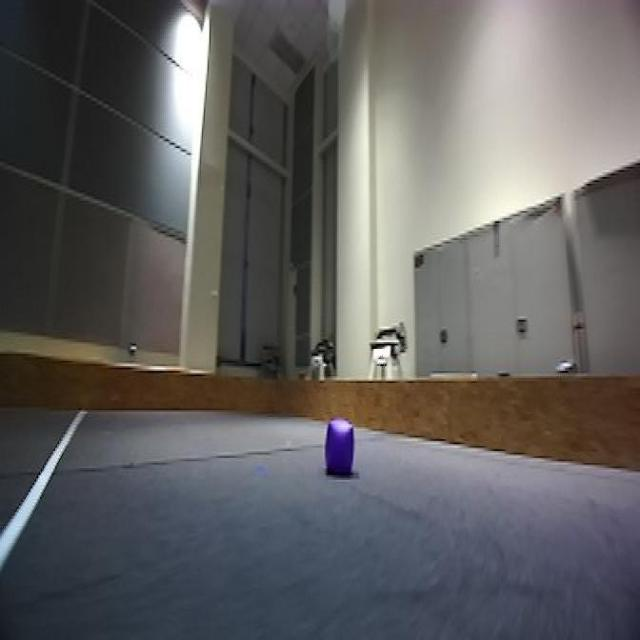frc_cube: (321, 417, 358, 478)
